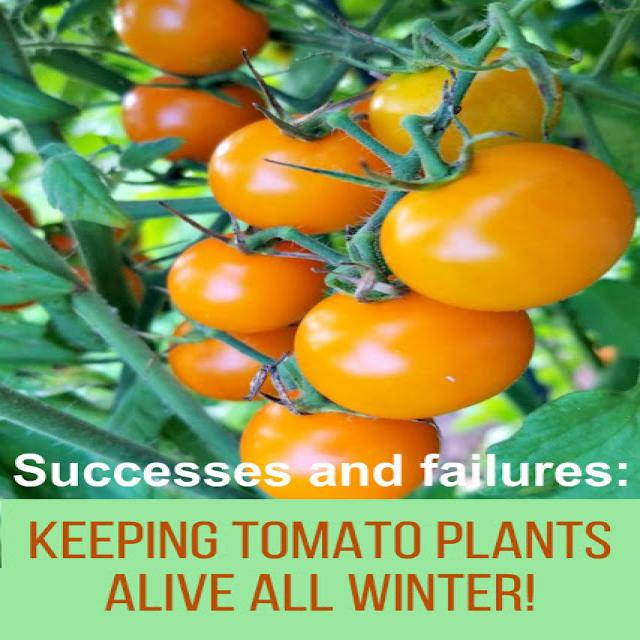level 4: (382, 143, 634, 308), (377, 51, 555, 169)
level 5: (288, 275, 538, 413), (233, 386, 444, 499), (208, 116, 384, 235), (171, 303, 342, 404), (173, 231, 329, 335), (122, 70, 268, 162), (113, 0, 272, 73)
